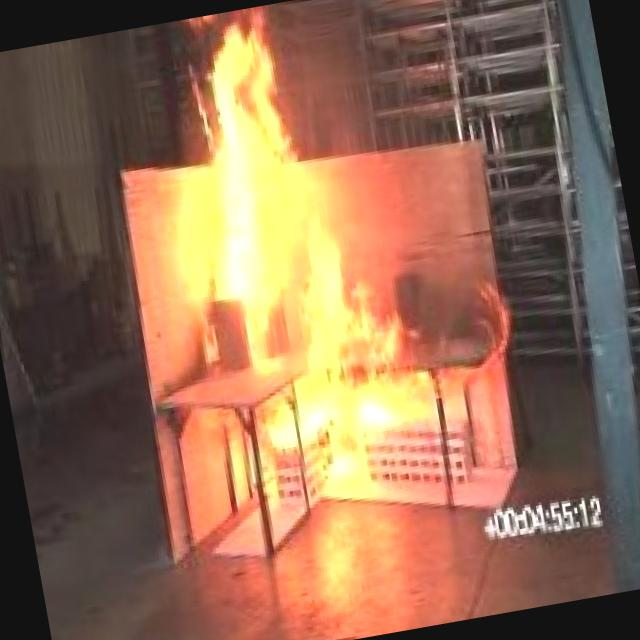fire: (116, 0, 503, 549)
